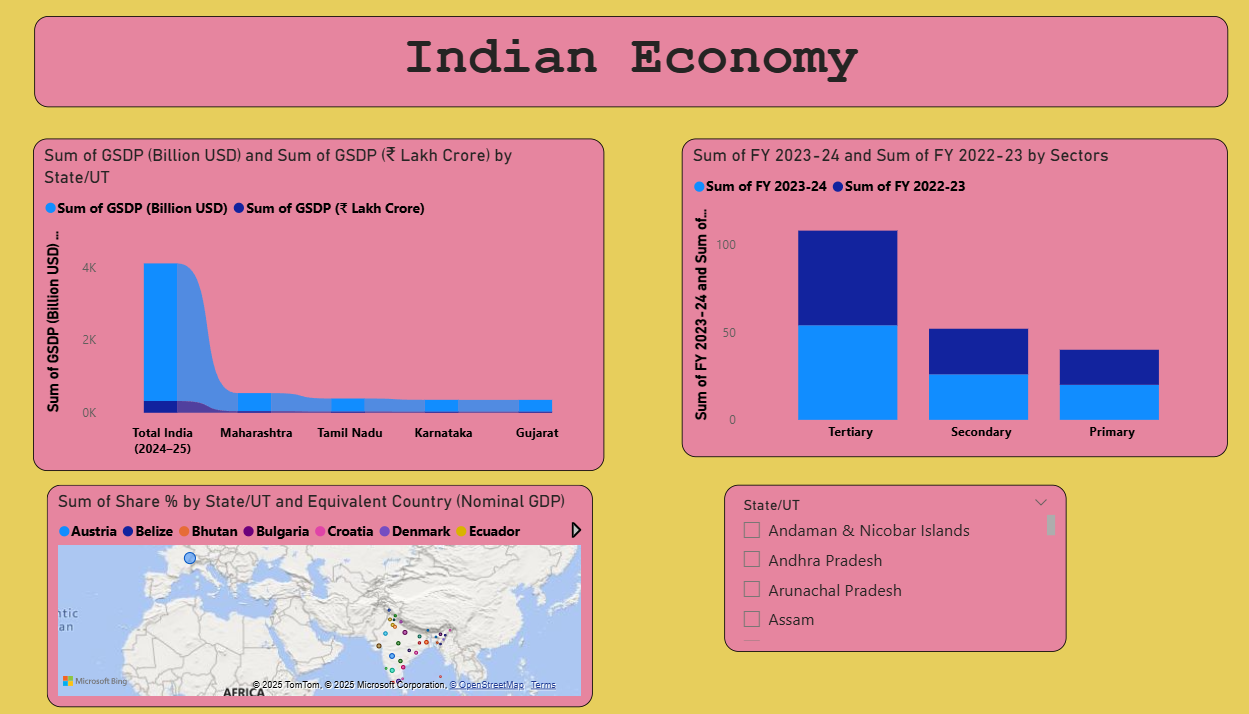

What the dashboard file says about the page in this screenshot:
{"tool":"powerbi","page":{"name":"Page 1","canvas":[1280,720],"ordinal":0},"visuals":[{"type":"ribbonChart","fields":{"Category":["Gross State Domestic Product (GSDP) of Indian States and UTs for 2024–25 (Nomina.State/UT"],"Y":["Sum(Gross State Domestic Product (GSDP) of Indian States and UTs for 2024–25 (Nomina.GSDP (Billion USD))","Sum(Gross State Domestic Product (GSDP) of Indian States and UTs for 2024–25 (Nomina.GSDP (₹ Lakh Crore))"]},"box":[59.4,150,560.9,326.6],"z":0},{"type":"textbox","box":[60.1,29.4,1171.8,89.6],"z":1000},{"type":"columnChart","fields":{"Y":["Sum(Sectoral shares % in GDP (at constant basic prices)[193].FY 2023-24)","Sum(Sectoral shares % in GDP (at constant basic prices)[193].FY 2022-23)"],"Category":["Sectoral shares % in GDP (at constant basic prices)[193].Sectors"]},"box":[695.3,150,535.9,312.5],"z":2000},{"type":"map","fields":{"Category":["Gross State Domestic Product (GSDP) of Indian States and UTs for 2024–25 (Nomina.State/UT"],"Series":["Gross State Domestic Product (GSDP) of Indian States and UTs for 2024–25 (Nomina.Equivalent Country (Nominal GDP)"],"Size":["Sum(Gross State Domestic Product (GSDP) of Indian States and UTs for 2024–25 (Nomina.Share %)"]},"box":[71.9,489.1,535.9,218.8],"z":4000},{"type":"slicer","fields":{"Values":["Gross State Domestic Product (GSDP) of Indian States and UTs for 2024–25 (Nomina.State/UT"]},"box":[737.5,489.1,335.9,164.1],"z":5000}]}

Visuals, with their boxes in screenshot pixels (x1, y1, x2, y2), scaled from the page's 1280x720 canvas onto the 1249x714 screenshot:
ribbonChart - Gross State Domestic Product (GSDP) of Indian States and UTs for 2024–25 (Nomina.State/UT x Sum(Gross State Domestic Product (GSDP) of Indian States and UTs for 2024–25 (Nomina.GSDP (Billion USD)): crop(58, 149, 605, 473)
textbox: crop(59, 29, 1202, 118)
columnChart - Sum(Sectoral shares % in GDP (at constant basic prices)[193].FY 2023-24) x Sum(Sectoral shares % in GDP (at constant basic prices)[193].FY 2022-23): crop(678, 149, 1201, 459)
map - Gross State Domestic Product (GSDP) of Indian States and UTs for 2024–25 (Nomina.State/UT x Gross State Domestic Product (GSDP) of Indian States and UTs for 2024–25 (Nomina.Equivalent Country (Nominal GDP): crop(70, 485, 593, 702)
slicer - Gross State Domestic Product (GSDP) of Indian States and UTs for 2024–25 (Nomina.State/UT: crop(720, 485, 1047, 648)
